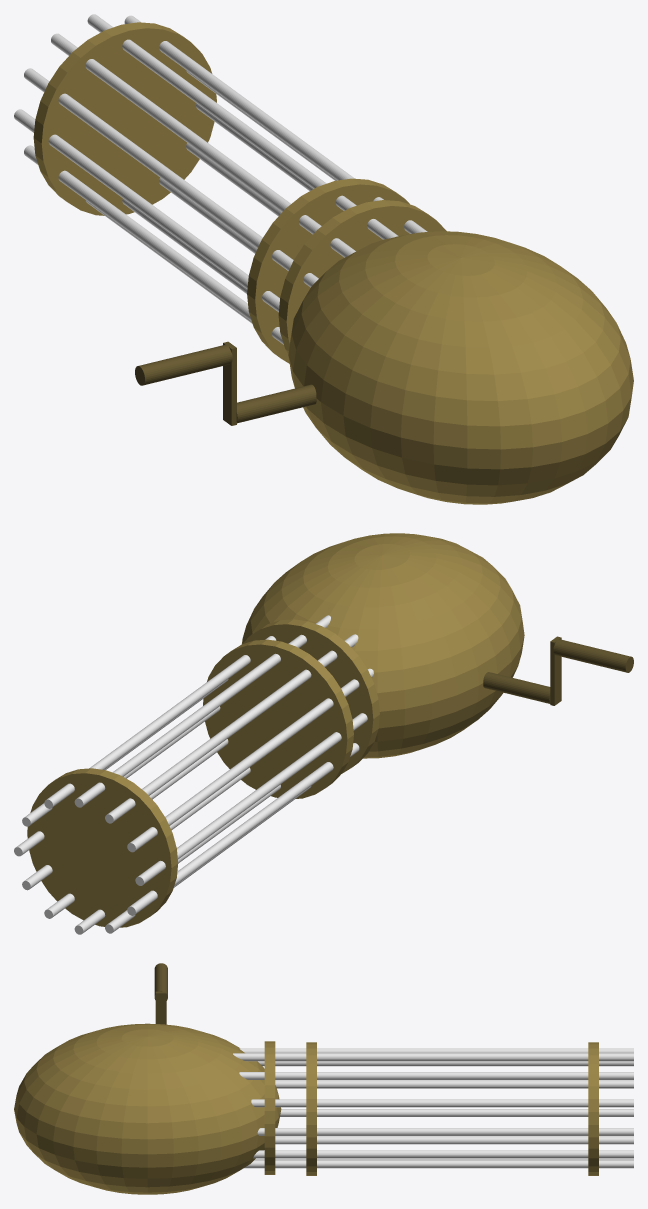
Rendered from Gatling Gun.fbx.
3 views of the same model, one above another, from view 1: azimuth 30°, elevation 25°; view 2: azimuth 150°, elevation 25°; view 3: azimuth 270°, elevation 25° (orthographic). The views are drawn at different scales.
Visible parts, largest first — view 1: Sphere, Barrels, Outer Ring, Inner Ring 2, Inner Ring, Handle, Axle, Axle to Handle; view 2: Sphere, Barrels, Outer Ring, Inner Ring 2, Inner Ring, Handle, Axle, Axle to Handle; view 3: Sphere, Barrels, Inner Ring, Inner Ring 2, Outer Ring, Handle, Axle to Handle.
Boxes of the visible parts, <box> form: Sphere: <box>288,231,633,504</box>; Barrels: <box>14,14,427,344</box>; Outer Ring: <box>33,22,216,215</box>; Inner Ring 2: <box>247,178,409,363</box>; Inner Ring: <box>278,200,446,353</box>; Handle: <box>135,344,232,385</box>; Axle: <box>236,384,316,423</box>; Axle to Handle: <box>223,341,236,425</box>; Sphere: <box>242,533,524,758</box>; Barrels: <box>14,615,373,934</box>; Outer Ring: <box>27,768,178,927</box>; Inner Ring 2: <box>203,639,353,798</box>; Inner Ring: <box>242,619,379,773</box>; Handle: <box>553,639,633,672</box>; Axle: <box>483,672,550,703</box>; Axle to Handle: <box>550,636,561,705</box>; Sphere: <box>14,1023,281,1194</box>; Barrels: <box>233,1048,633,1168</box>; Inner Ring: <box>264,1041,275,1174</box>; Inner Ring 2: <box>306,1042,316,1175</box>; Outer Ring: <box>588,1042,598,1175</box>; Handle: <box>154,963,167,1000</box>; Axle to Handle: <box>155,991,166,1024</box>.
Bounding box in the file's own units: 257 × 120 × 464.
